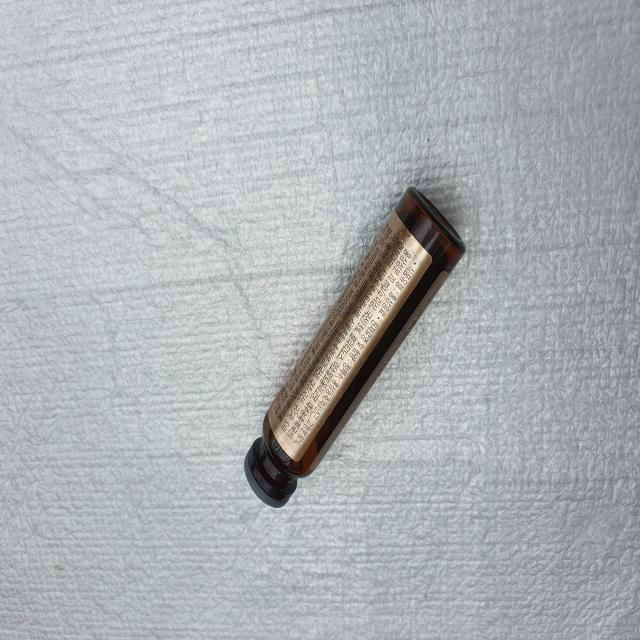glass: (244, 186, 466, 507)
